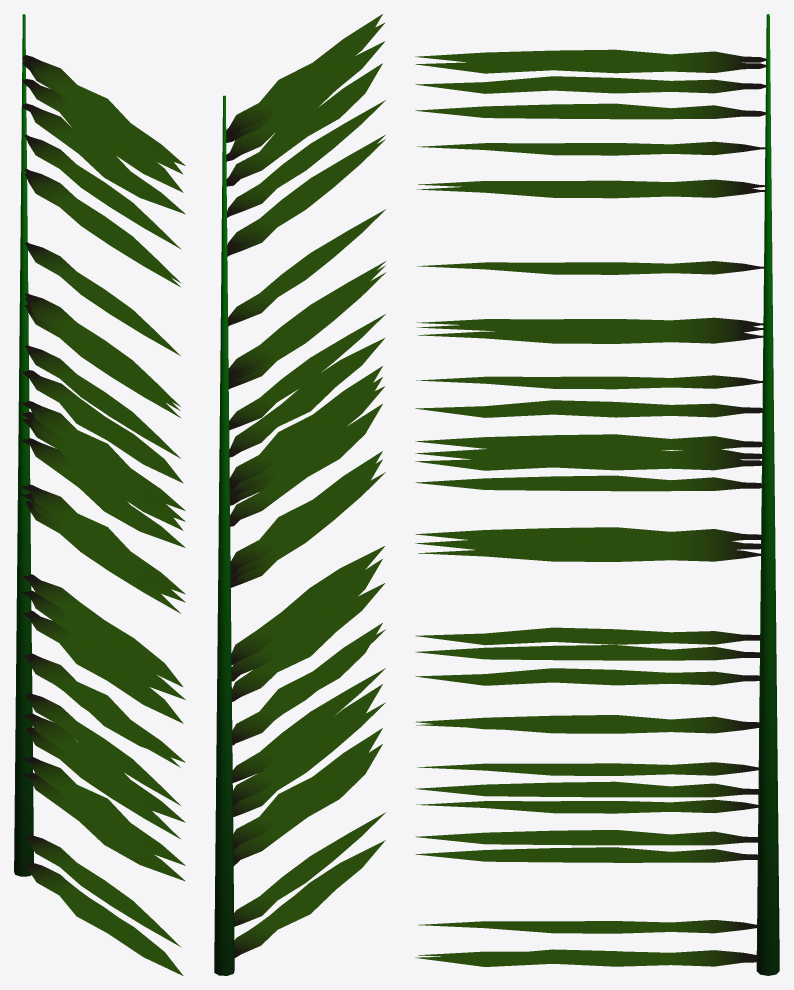
Rendered from ST_Alga.fbx.
3 views of the same model, side by side, from view 1: azimuth 30°, elevation 25°; view 2: azimuth 150°, elevation 25°; view 3: azimuth 270°, elevation 25° (orthographic). The views are drawn at different scales.
Visible parts, largest first — view 1: ALGA; view 2: ALGA; view 3: ALGA.
Part boxes in pixels (x1=…): ALGA: x1=14, y1=14, x2=185, y2=975; ALGA: x1=214, y1=14, x2=386, y2=975; ALGA: x1=415, y1=14, x2=779, y2=975.
Size of the model in its own units: 0.0388 by 1 by 0.3456.
